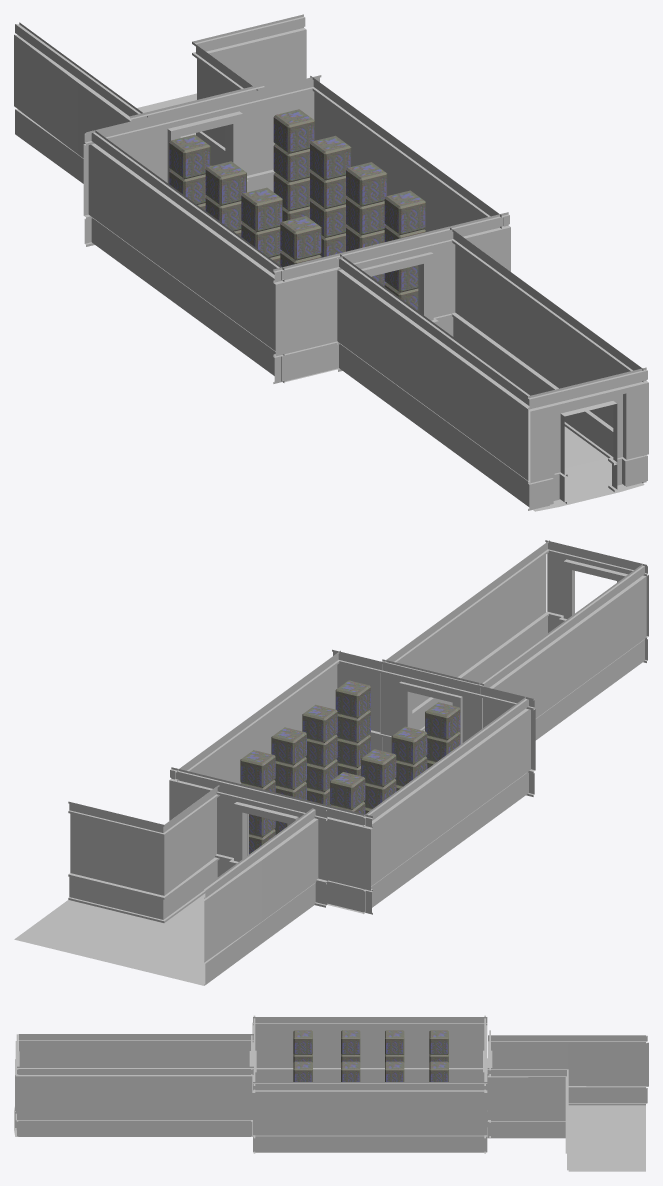
File: Salle 2.FBX
The picture shows the model from 3 angles, top to bottom: view 1: azimuth 30°, elevation 25°; view 2: azimuth 150°, elevation 25°; view 3: azimuth 270°, elevation 25°; orthographic projection. The views are drawn at different scales.
Parts seen in each view (by area): view 1: mur011, mur008, mur033, mur012, mur021, mur016, mur029, mur030, mur031, mur028, mur017, pillier050 (+14 smaller); view 2: mur008, mur011, mur017, mur012, mur016, mur021, mur014, mur029, mur027, mur013, mur019, mur028 (+17 smaller); view 3: mur012, mur008, mur027, mur016, mur013, mur028, mur031, mur021, mur029, mur014, mur030, sol029 (+14 smaller).
Boxes of the visible parts, x1,y1,x2,y2 form: mur011: (83, 75, 510, 383); mur008: (88, 128, 284, 382); mur033: (528, 367, 648, 510); mur012: (310, 76, 503, 231); mur021: (462, 347, 531, 506); mur016: (14, 22, 82, 180); mur029: (399, 300, 466, 459); mur030: (336, 254, 403, 412); mur031: (450, 228, 517, 381); mur028: (513, 274, 580, 434); mur017: (192, 14, 306, 88); pillier050: (310, 135, 351, 257); mur008: (363, 696, 530, 913); mur011: (169, 649, 535, 914); mur017: (68, 801, 164, 922); mur012: (175, 650, 340, 783); mur016: (204, 848, 261, 985); mur021: (586, 564, 646, 701); mur014: (258, 808, 318, 944); mur029: (532, 605, 590, 740); mur027: (489, 540, 549, 674); mur013: (163, 785, 219, 922); mur019: (211, 781, 327, 907); mur028: (434, 582, 492, 705); mur012: (253, 1082, 487, 1152); mur008: (253, 1017, 487, 1081); mur027: (17, 1066, 98, 1136); mur016: (568, 1035, 648, 1105); mur013: (487, 1068, 568, 1138); mur028: (99, 1066, 176, 1136); mur031: (176, 1066, 253, 1136); mur021: (18, 1034, 98, 1066); mur029: (99, 1034, 176, 1066); mur014: (488, 1035, 568, 1067); mur030: (176, 1034, 253, 1066); sol029: (568, 1138, 607, 1171).
Bounding box in the file's own units: 523 × 205 × 1639.
